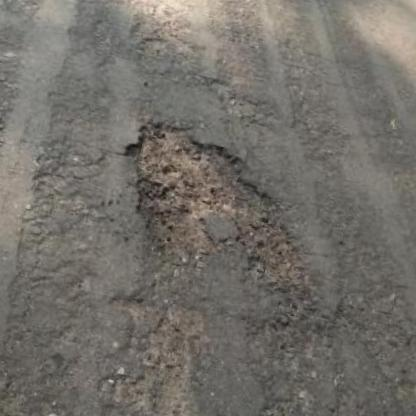pothole: (99, 111, 319, 287)
